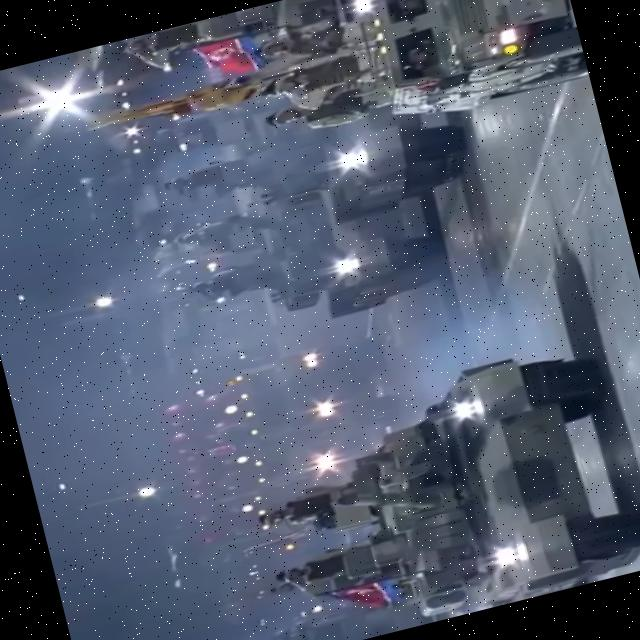north tank: (216, 322, 640, 640), (178, 27, 480, 254), (176, 142, 476, 352), (338, 0, 589, 132)
